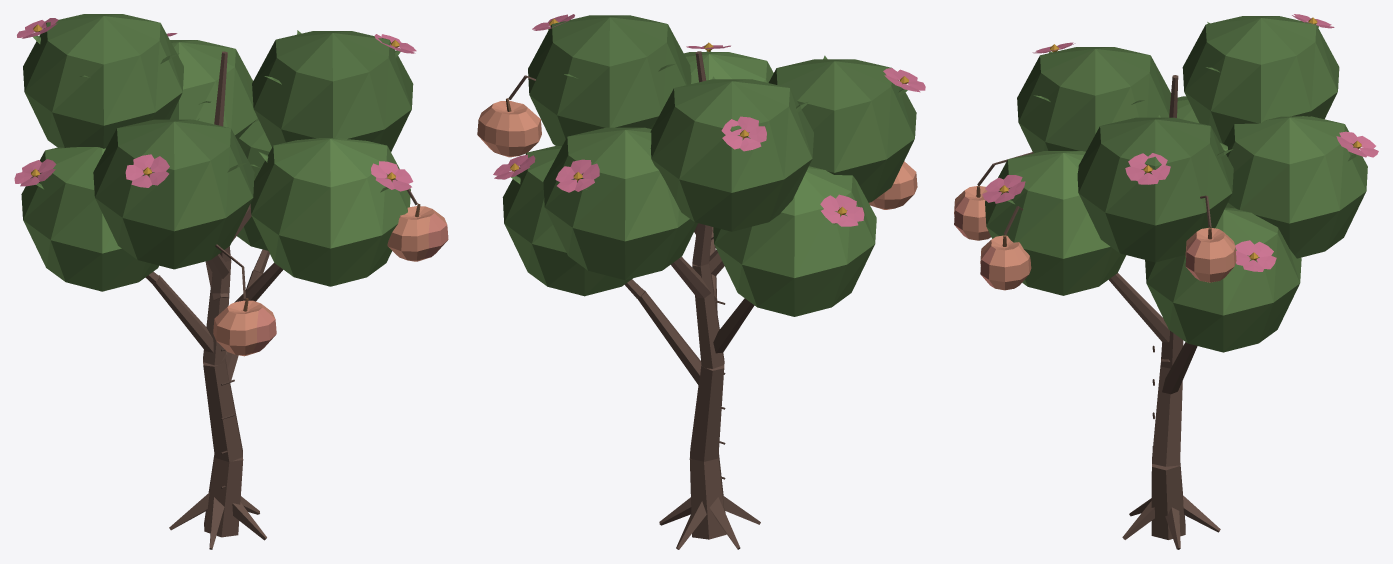
The model's file is peach_tree.glb.
The picture shows the model from 3 angles, left to right: view 1: azimuth 30°, elevation 25°; view 2: azimuth 150°, elevation 25°; view 3: azimuth 270°, elevation 25°; orthographic projection. The views are drawn at different scales.
Parts seen in each view (by area): view 1: leaves, branches, blossom, fruit_1, fruit_2; view 2: leaves, branches, blossom, fruit_3, fruit_1; view 3: leaves, branches, blossom, fruit_3, fruit_2, fruit_1.
Part boxes in pixels (left/top/right/bottom): leaves: left=21, top=14, right=413, bottom=291; branches: left=145, top=51, right=396, bottom=549; blossom: left=14, top=18, right=416, bottom=191; fruit_1: left=213, top=266, right=276, bottom=356; fruit_2: left=387, top=189, right=448, bottom=261; leaves: left=502, top=15, right=916, bottom=316; branches: left=526, top=51, right=760, bottom=549; blossom: left=493, top=14, right=925, bottom=226; fruit_3: left=477, top=75, right=541, bottom=157; fruit_1: left=869, top=161, right=917, bottom=209; leaves: left=985, top=16, right=1367, bottom=352; branches: left=994, top=75, right=1220, bottom=549; blossom: left=982, top=14, right=1378, bottom=271; fruit_3: left=1185, top=196, right=1236, bottom=282; fruit_2: left=980, top=206, right=1031, bottom=290; fruit_1: left=954, top=163, right=994, bottom=240.
Bounding box in the file's own units: 2.4 × 3 × 2.4.
